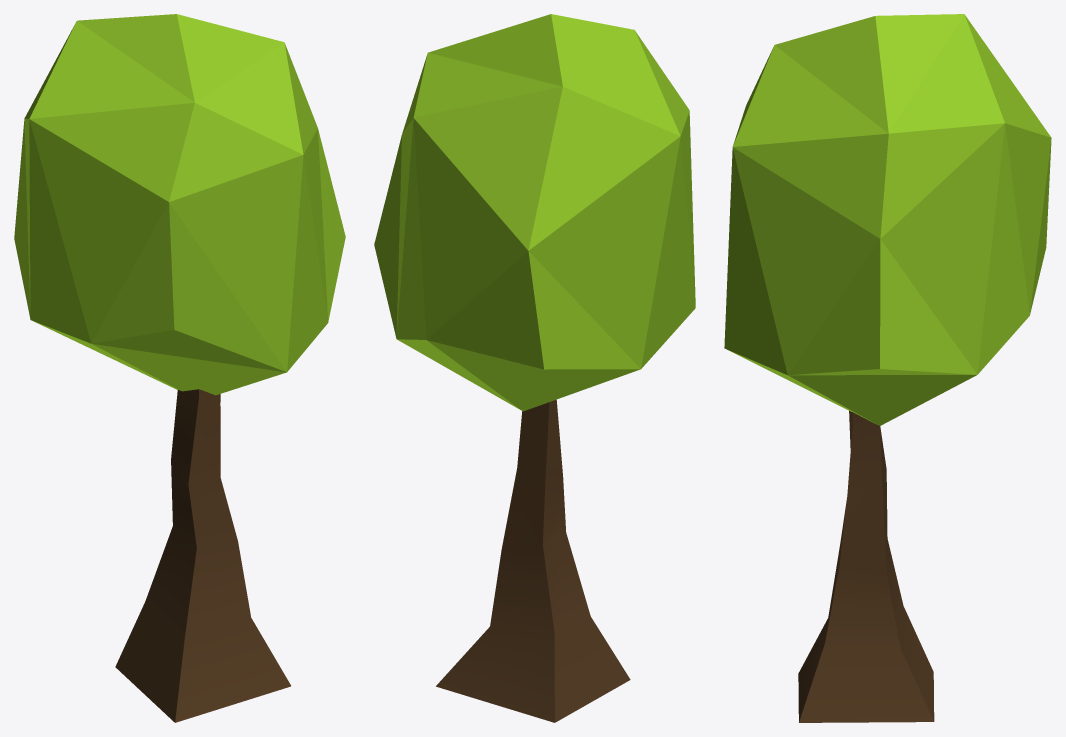
The model's file is Low Poly Tree.FBX.
3 renders of one model, left to right at view 1: azimuth 30°, elevation 25°; view 2: azimuth 150°, elevation 25°; view 3: azimuth 270°, elevation 25°, orthographic.
Visible parts, largest first — view 1: GeoSphere001, Box001; view 2: GeoSphere001, Box001; view 3: GeoSphere001, Box001.
Boxes of the visible parts, x1,y1,x2,y2 form: GeoSphere001: (14,14,345,395); Box001: (115,389,290,722); GeoSphere001: (374,14,695,411); Box001: (436,399,630,722); GeoSphere001: (724,14,1051,425); Box001: (798,411,934,722).
Bounding box in the file's own units: 41.19 × 85.64 × 37.49.
Materials: 2 (2 with a texture image).
